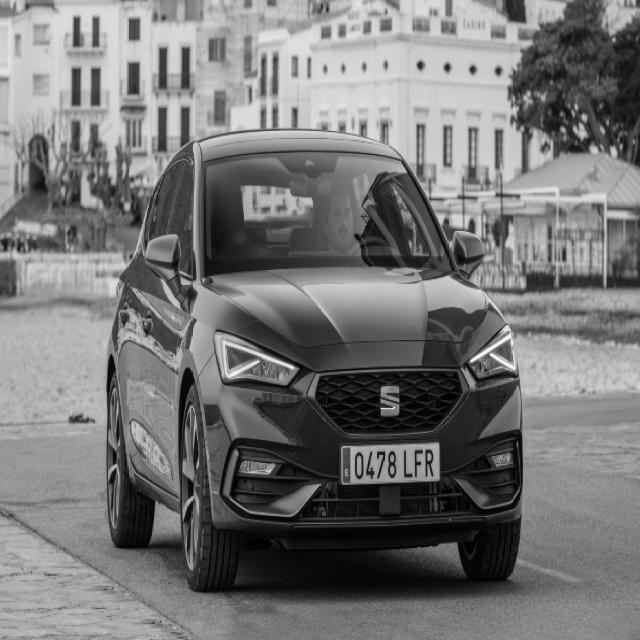License-Plate: (342, 441, 439, 486)
